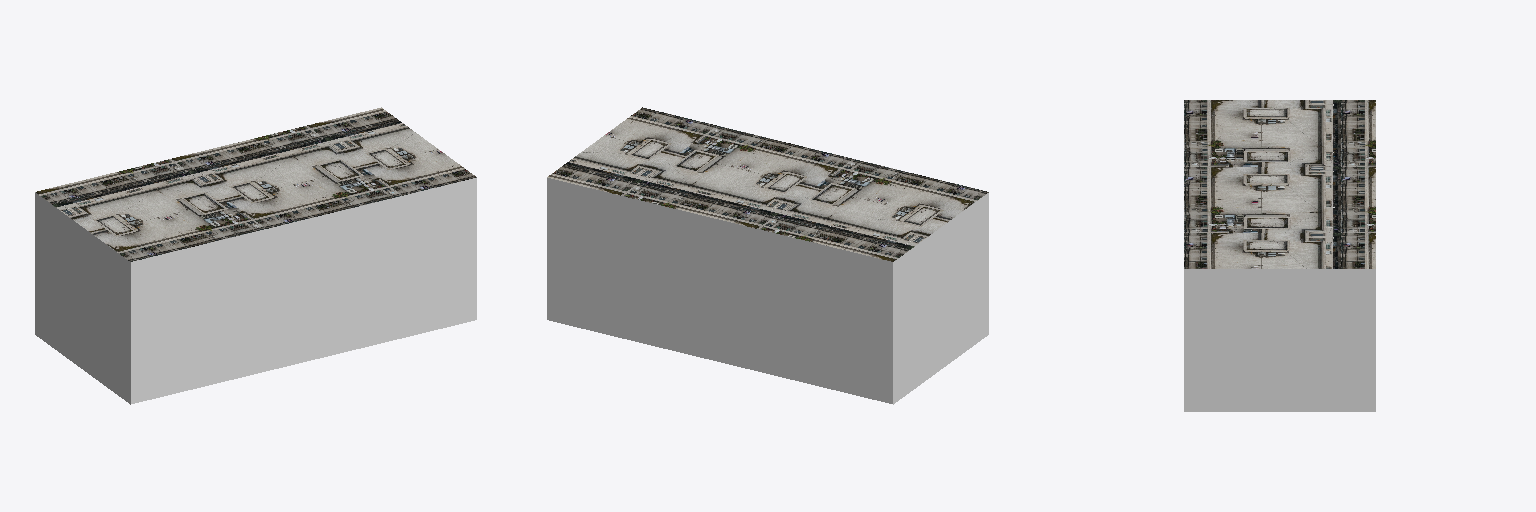
The picture shows the model from 3 angles: view 1: azimuth 30°, elevation 25°; view 2: azimuth 150°, elevation 25°; view 3: azimuth 270°, elevation 25°; orthographic projection.
Parts seen in each view (by area): view 1: Building_15.[number redacted]_7.[number redacted]; view 2: Building_15.[number redacted]_7.[number redacted]; view 3: Building_15.[number redacted]_7.[number redacted].
Boxes of the visible parts, x1,y1,x2,y2 form: Building_15.[number redacted]_7.[number redacted]: [35, 107, 476, 404]; Building_15.[number redacted]_7.[number redacted]: [547, 107, 988, 404]; Building_15.[number redacted]_7.[number redacted]: [1184, 100, 1375, 411].
Size of the model in its own units: 15.29 by 6 by 7.32.
Materials: 2 (1 with a texture image).